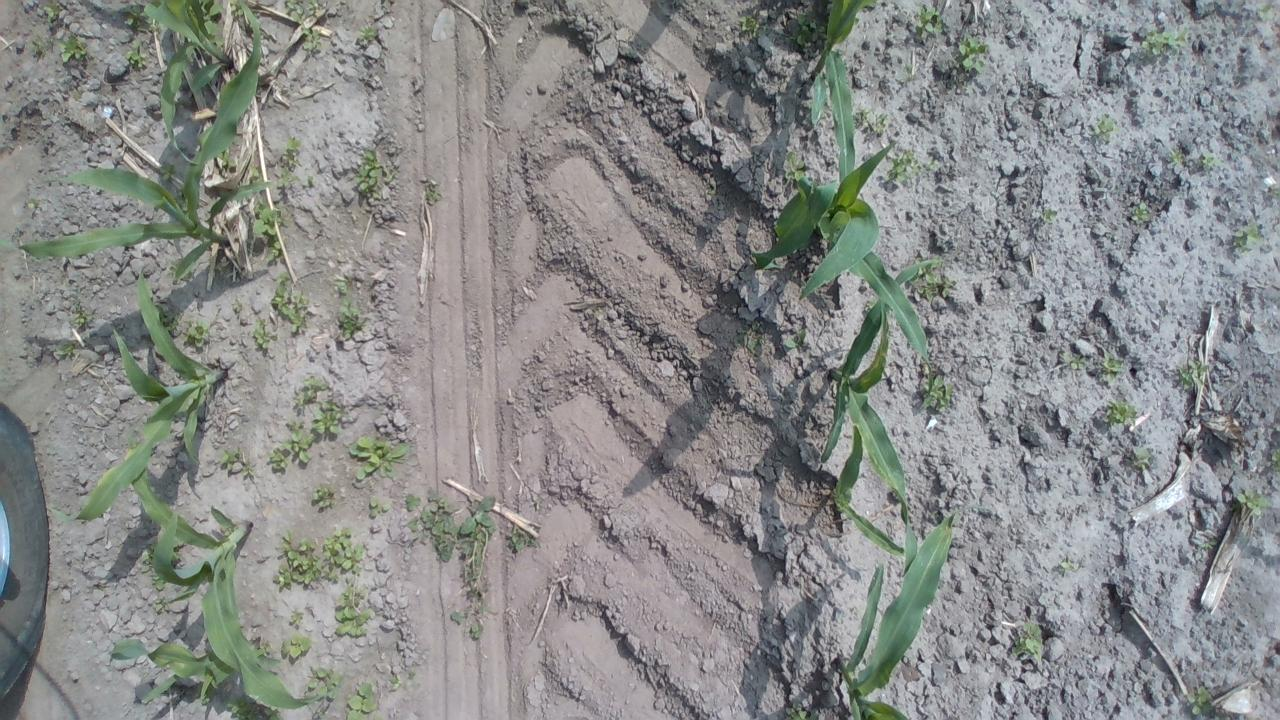Maize: (15, 5, 295, 264), (748, 48, 944, 362), (118, 444, 315, 712), (43, 267, 225, 537), (821, 247, 960, 537), (824, 514, 967, 716), (98, 624, 326, 716), (120, 5, 268, 144), (791, 2, 884, 132)
Weeds: (450, 494, 505, 640), (402, 488, 459, 562), (270, 529, 324, 591), (343, 434, 410, 483), (271, 272, 319, 340), (332, 582, 378, 644), (322, 526, 368, 582), (354, 150, 396, 203), (252, 205, 288, 266), (1009, 618, 1051, 670), (914, 256, 961, 302), (290, 373, 338, 414), (275, 141, 313, 192), (301, 664, 341, 710), (144, 541, 178, 594), (309, 402, 352, 443), (340, 680, 382, 720), (505, 517, 547, 555), (334, 300, 368, 346), (887, 147, 925, 188), (1173, 358, 1212, 397), (922, 375, 960, 415), (228, 692, 282, 720), (1235, 486, 1270, 528), (1142, 27, 1192, 56), (958, 35, 992, 77), (221, 444, 259, 481), (148, 298, 184, 336), (58, 35, 100, 67), (788, 12, 830, 44), (282, 427, 317, 463), (732, 323, 768, 357), (914, 6, 952, 38), (281, 634, 317, 666), (308, 484, 346, 514), (1104, 400, 1142, 430), (1189, 684, 1221, 718), (68, 298, 96, 334), (252, 315, 278, 353), (415, 172, 441, 209), (1128, 444, 1160, 474), (122, 1, 152, 32), (778, 154, 808, 185), (1226, 223, 1262, 248), (1098, 352, 1128, 382), (263, 442, 291, 474), (184, 319, 213, 349), (283, 1, 331, 18), (740, 14, 774, 38), (356, 17, 384, 46), (1092, 111, 1120, 140), (126, 42, 152, 73), (299, 26, 327, 54), (1058, 553, 1088, 579), (40, 3, 72, 27), (1129, 198, 1158, 224), (382, 670, 416, 692), (780, 330, 810, 354), (866, 109, 889, 140), (1060, 347, 1088, 372), (368, 496, 394, 522), (30, 32, 54, 57), (1194, 152, 1220, 174), (780, 706, 820, 720), (1037, 207, 1063, 226), (333, 274, 355, 296), (1250, 8, 1276, 26), (288, 607, 306, 632), (54, 340, 76, 358), (148, 596, 171, 612), (1169, 145, 1186, 164)
